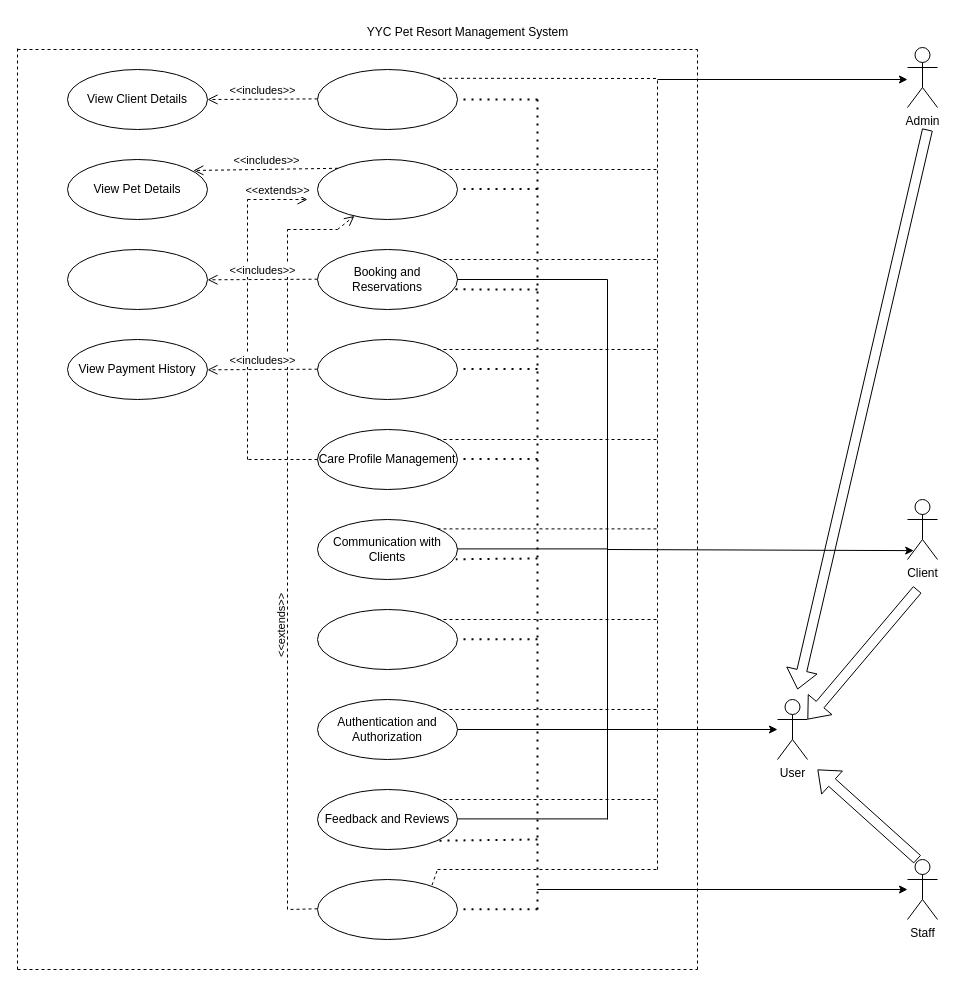
This 957x988 diagram has some shape labels left out. The shapes that lost their labels are listed below. From the top down, each one's centre as x and y in pixels, then its label:
pixel 387 99: Manage Client Info
pixel 387 189: Manage Pet Info
pixel 137 279: View Booking Details
pixel 387 369: Billings and Payment
pixel 387 639: Report Generation
pixel 387 909: Pet Status Tracking
